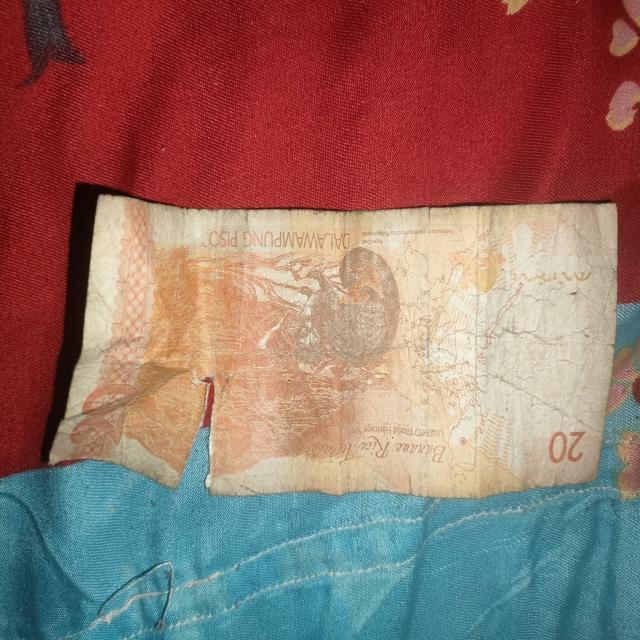broken: (45, 198, 622, 494)
torn: (167, 372, 244, 500)
